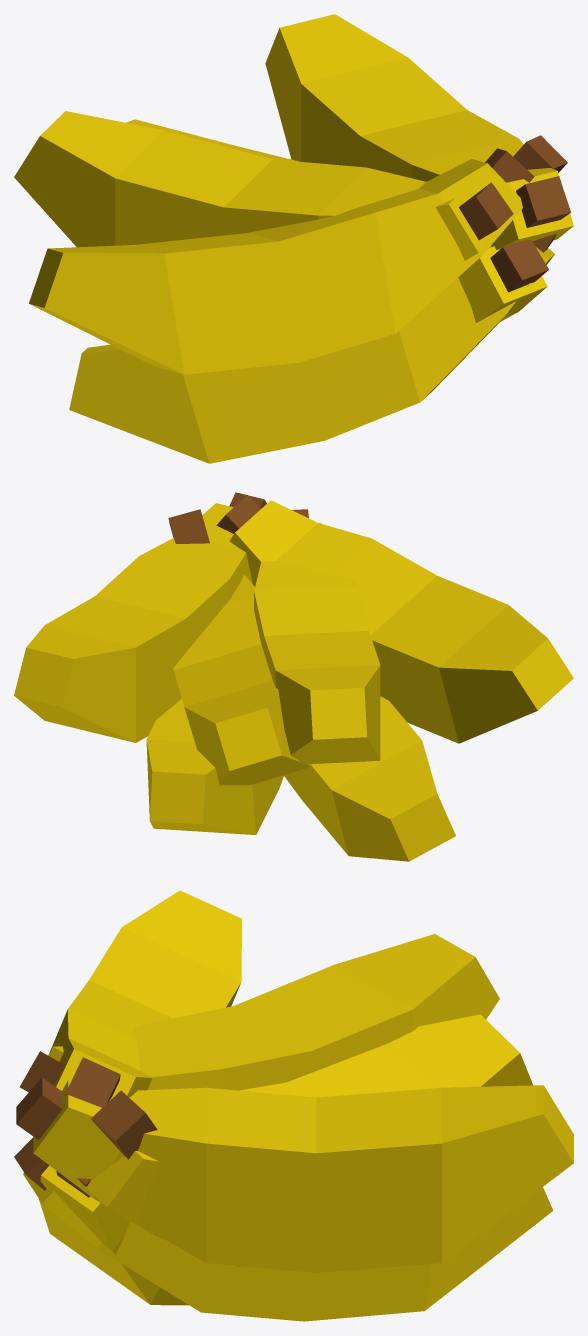
The model's file is Banana.fbx.
3 renders of one model, top to bottom at view 1: azimuth 30°, elevation 25°; view 2: azimuth 150°, elevation 25°; view 3: azimuth 270°, elevation 25°, orthographic. The views are drawn at different scales.
Parts seen in each view (by area): view 1: Cube.008, Cube.007, Cube.003, Cube, Cube.004, Cube.001, Cube.005, Cube.002, Cube.010, Cube.009, Cube.011; view 2: Cube.008, Cube, Cube.003, Cube.011, Cube.007, Cube.004, Cube.010, Cube.009; view 3: Cube, Cube.003, Cube.004, Cube.008, Cube.011, Cube.007, Cube.010, Cube.001, Cube.009, Cube.002, Cube.005.
Boxes of the visible parts, x1,y1,x2,y2 form: Cube.008: (29,159,522,374); Cube.007: (69,246,554,463); Cube.003: (14,111,485,260); Cube: (265,14,573,249); Cube.004: (458,246,547,322); Cube.001: (516,176,570,227); Cube.005: (490,239,548,292); Cube.002: (459,182,513,240); Cube.010: (513,135,567,172); Cube.009: (485,148,534,182); Cube.011: (126,119,572,227); Cube.008: (229,500,573,743); Cube: (14,503,252,742); Cube.003: (254,522,380,764); Cube.011: (173,575,312,785); Cube.007: (284,696,455,861); Cube.004: (146,699,283,834); Cube.010: (168,509,209,543); Cube.009: (216,495,260,533); Cube: (33,1080,573,1272); Cube.003: (48,934,499,1090); Cube.004: (23,1172,553,1321); Cube.008: (48,890,241,1097); Cube.011: (85,1014,532,1266); Cube.007: (39,1165,188,1305); Cube.010: (91,1090,157,1159); Cube.001: (16,1077,62,1140); Cube.009: (65,1057,120,1107); Cube.002: (19,1051,64,1092); Cube.005: (14,1137,48,1190).
Size of the model in its own units: 280 by 168 by 255.
